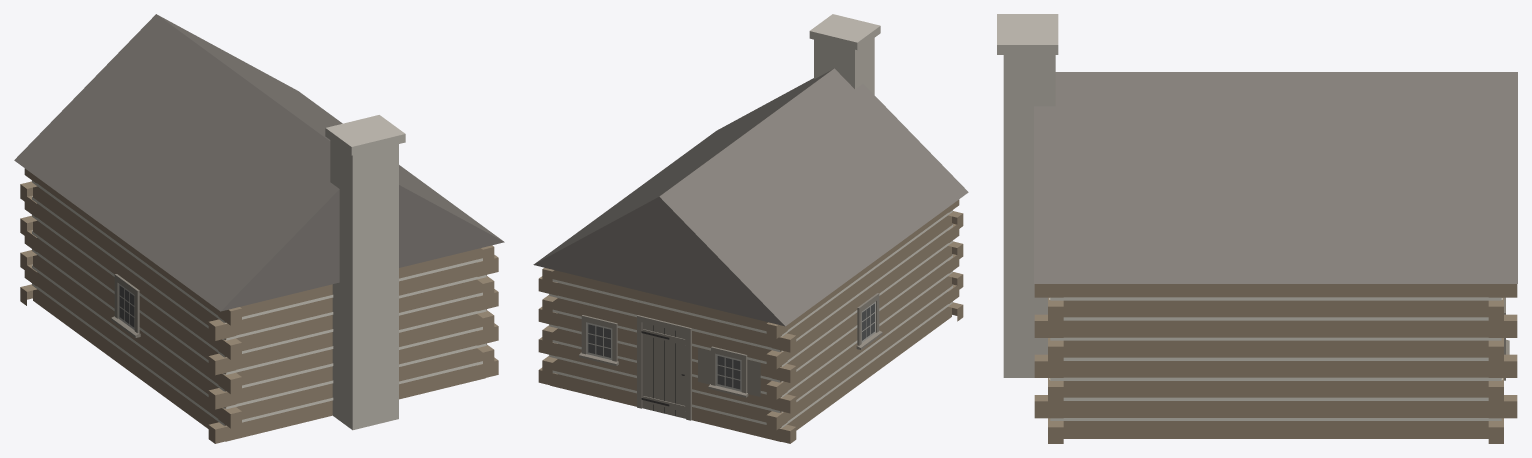
File: recon_1835_north_d1_013__inferred_1835.glb
The picture shows the model from 3 angles, left to right: view 1: azimuth 30°, elevation 25°; view 2: azimuth 150°, elevation 25°; view 3: azimuth 270°, elevation 25°; orthographic projection. The views are drawn at different scales.
Parts seen in each view (by area): view 1: recon_1835_north_d1_013__inferred_1835; view 2: recon_1835_north_d1_013__inferred_1835; view 3: recon_1835_north_d1_013__inferred_1835.
Boxes of the visible parts, x1,y1,x2,y2 form: recon_1835_north_d1_013__inferred_1835: (14, 14, 504, 443); recon_1835_north_d1_013__inferred_1835: (533, 14, 968, 443); recon_1835_north_d1_013__inferred_1835: (997, 14, 1517, 443).
Size of the model in its own units: 5.9 by 5.67 by 7.99.
